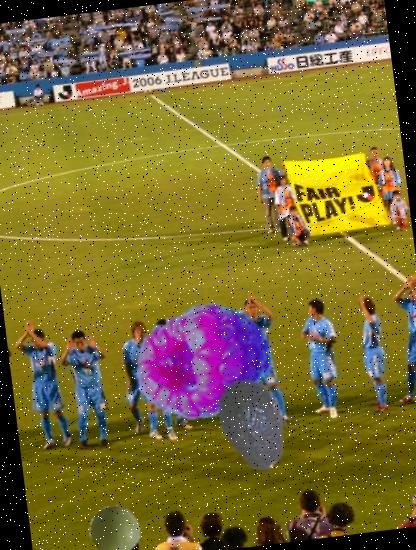Avocado: (201, 372, 306, 477)
Grape: (86, 502, 144, 550)
Raspberry: (126, 286, 276, 436)
